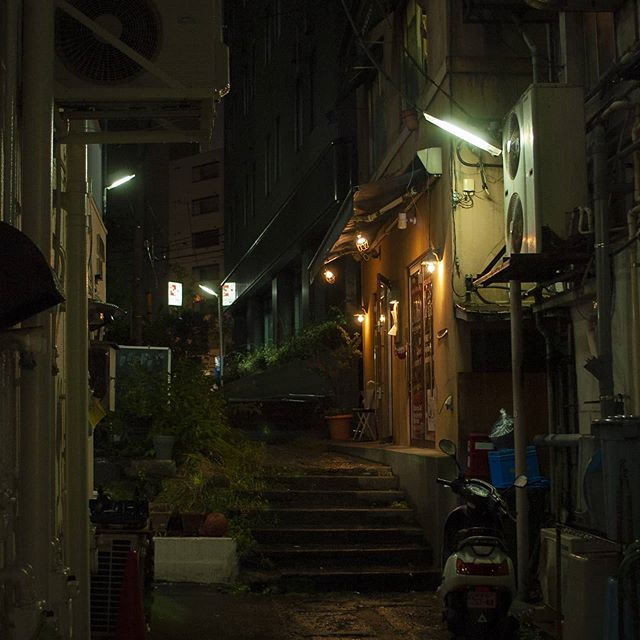building: (1, 4, 122, 640), (517, 1, 640, 617), (361, 1, 538, 426), (202, 1, 351, 375)
motorcycle: (439, 469, 530, 621)
